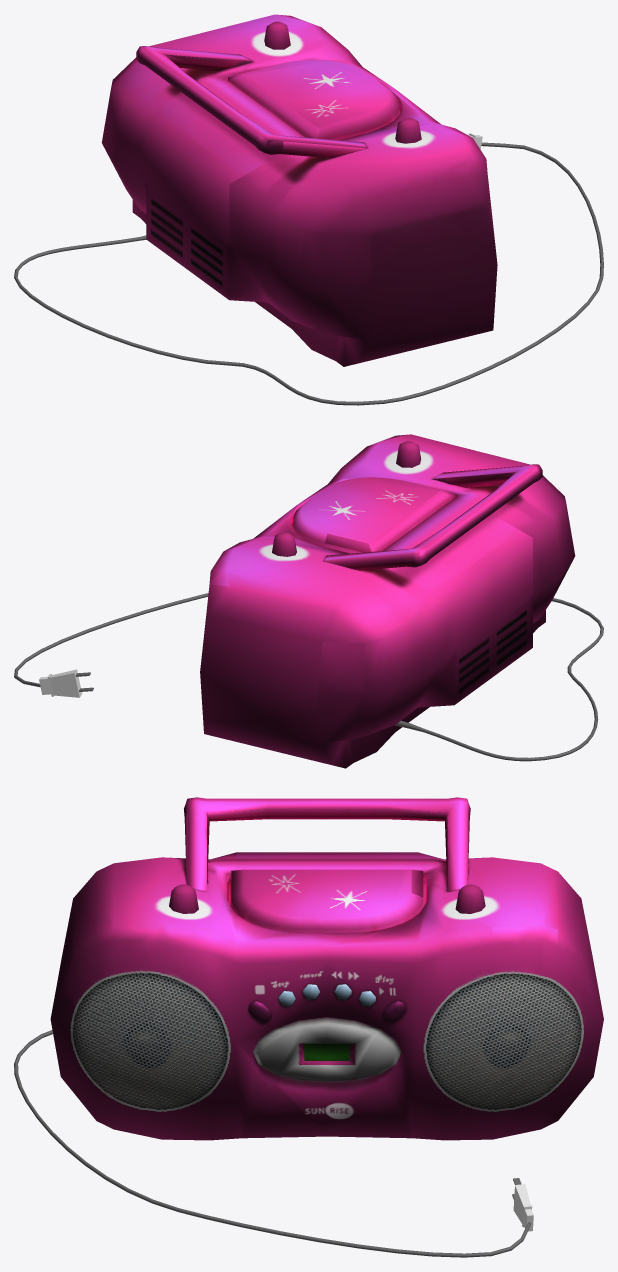
Rendered from ts_ektboombox.fbx.
3 views of the same model, one above another, from view 1: azimuth 30°, elevation 25°; view 2: azimuth 150°, elevation 25°; view 3: azimuth 270°, elevation 25° (orthographic). The views are drawn at different scales.
Visible parts, largest first — view 1: ts_ekt_boombox; view 2: ts_ekt_boombox; view 3: ts_ekt_boombox.
Boxes of the visible parts, x1=… form: ts_ekt_boombox: x1=14, y1=14, x2=603, y2=405; ts_ekt_boombox: x1=14, y1=434, x2=603, y2=768; ts_ekt_boombox: x1=14, y1=797, x2=603, y2=1257.
Size of the model in its own units: 688 by 257 by 576.
